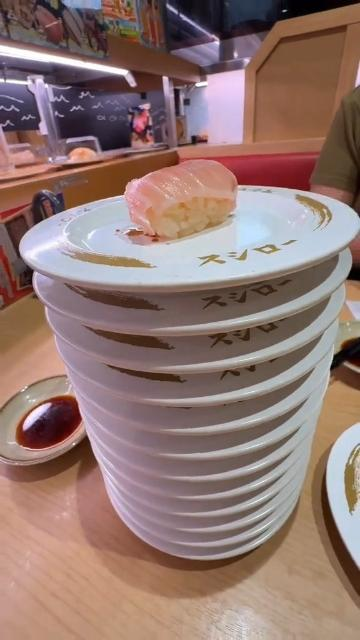janwhite: (47, 241, 348, 278), (77, 294, 307, 340), (101, 344, 299, 373), (330, 421, 360, 598), (131, 409, 299, 437), (116, 384, 293, 408), (140, 464, 280, 487), (139, 444, 284, 462), (143, 506, 262, 523), (149, 489, 264, 504), (151, 524, 274, 533), (168, 537, 256, 545)
